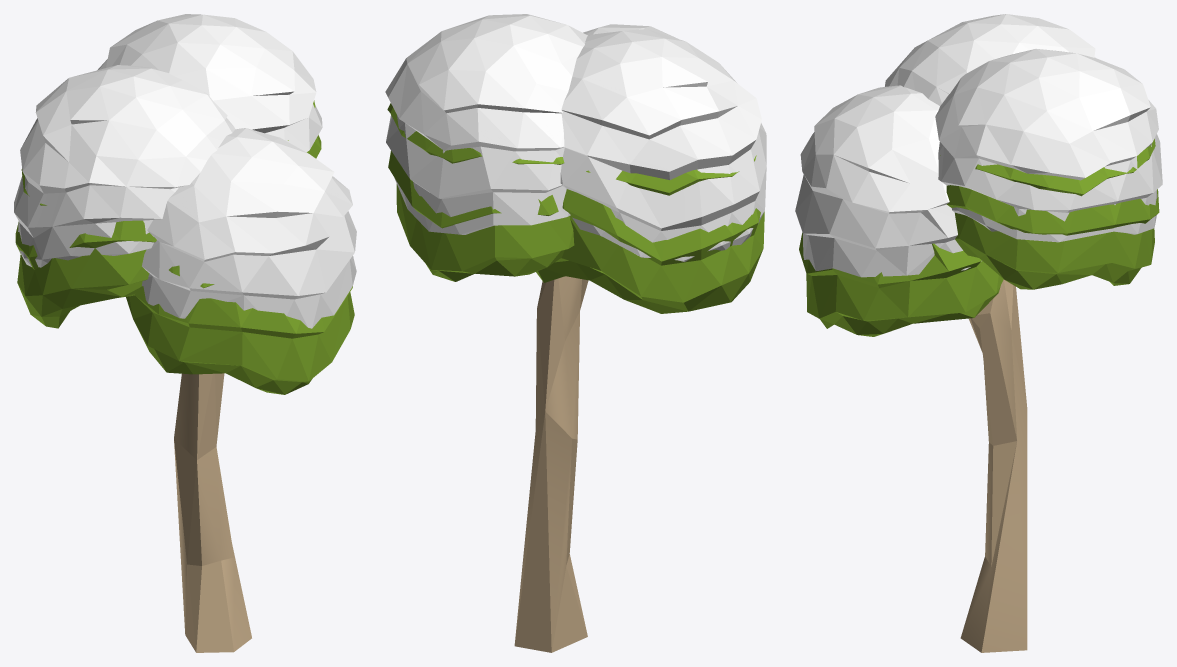
File: SnowbigtoothA.fbx
3 renders of one model, left to right at view 1: azimuth 30°, elevation 25°; view 2: azimuth 150°, elevation 25°; view 3: azimuth 270°, elevation 25°, orthographic. The views are drawn at different scales.
Visible parts, largest first — view 1: Icosphere.003, Icosphere.007, trunk.004; view 2: Icosphere.003, Icosphere.007, trunk.004; view 3: Icosphere.003, Icosphere.007, trunk.004.
Boxes of the visible parts, box(x1,y1,x2,y2) form: Icosphere.003: box(14, 14, 356, 328); Icosphere.007: box(15, 100, 354, 394); trunk.004: box(174, 373, 251, 652); Icosphere.003: box(385, 14, 766, 261); Icosphere.007: box(387, 103, 764, 313); trunk.004: box(514, 276, 588, 652); Icosphere.003: box(795, 14, 1162, 277); Icosphere.007: box(799, 139, 1159, 336); trunk.004: box(960, 279, 1027, 652).
Size of the model in its own units: 430 by 797 by 450.
